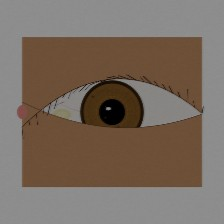pinguecula_lesion: (43, 100, 81, 130)
